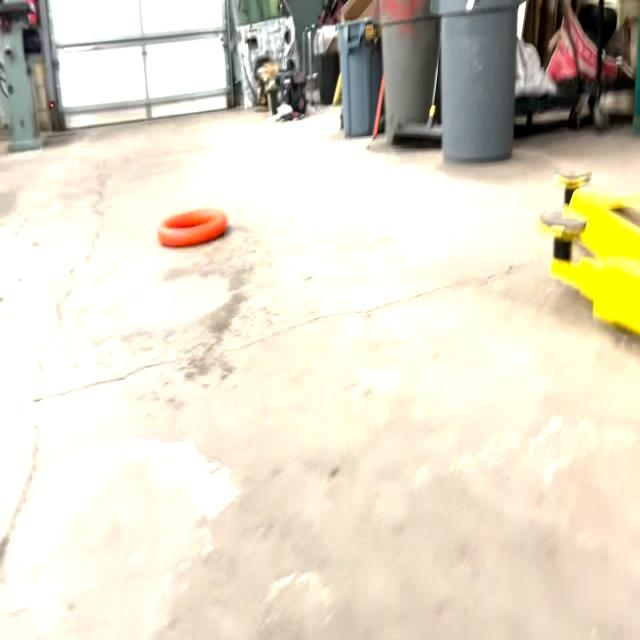note: (156, 200, 230, 253)
